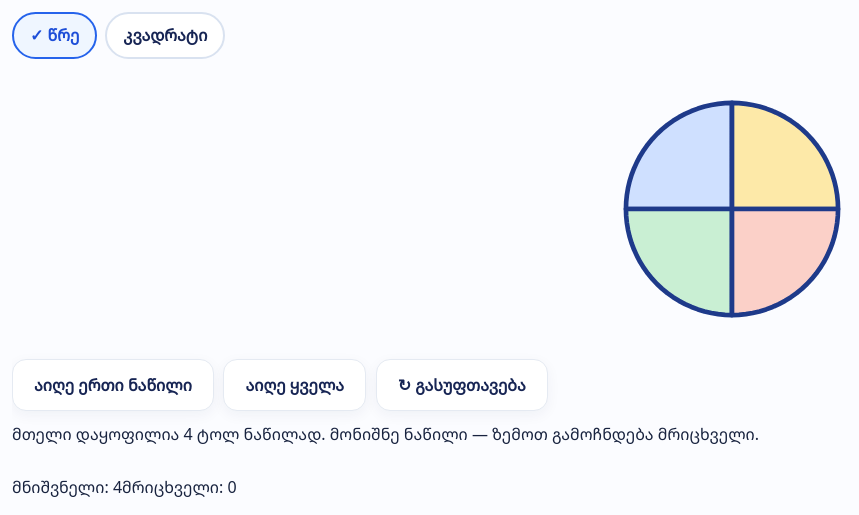
it: tools: the equal-parts lab › picks parts out of a whole and keeps the denominator fixed
The image size is (859, 515).
Click the button "აიღე ერთი ნაწილი": (113, 385) [12,359,214,411]
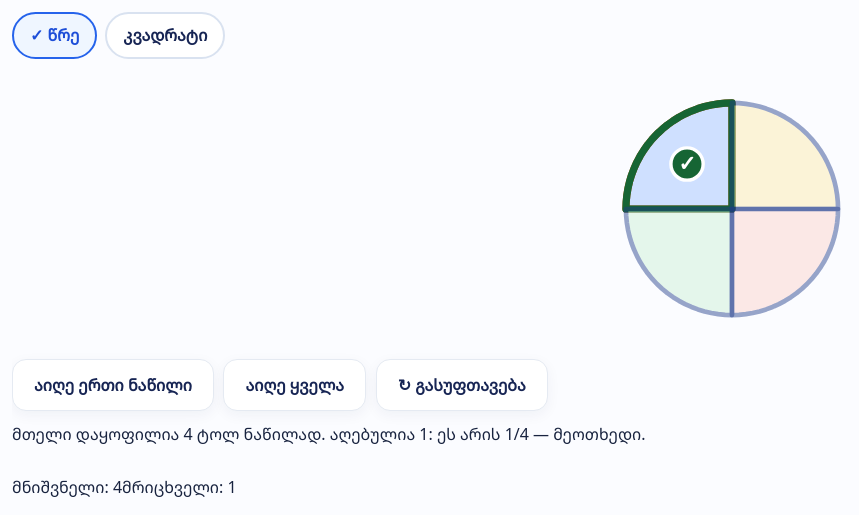
expect the element with class "lab-facts" shows "მრიცხველი: 1": met, box [12,476,237,498]
expect the message with class "lab-status" shows "1/4": met, box [12,423,646,445]
Click the button "აიღე ყველა": (295, 385) [224,359,366,411]
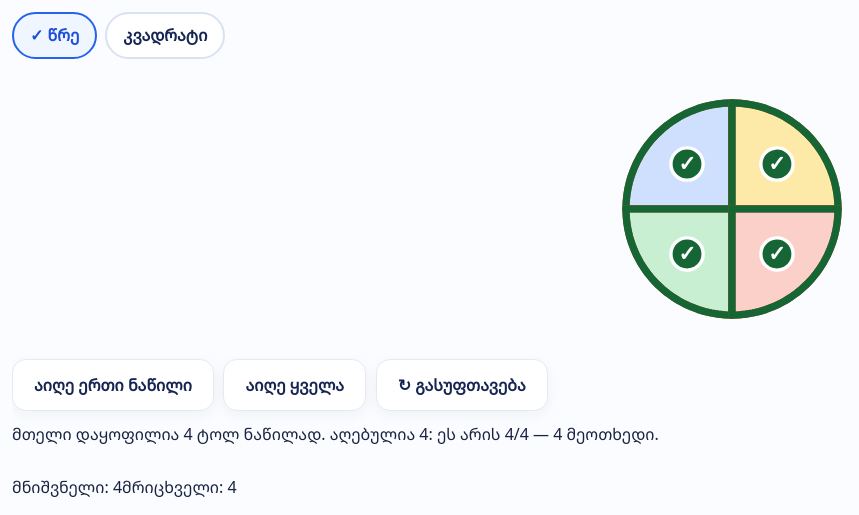
expect the element with class "lab-facts" shows "მრიცხველი: 4": met, box [12,476,237,498]
